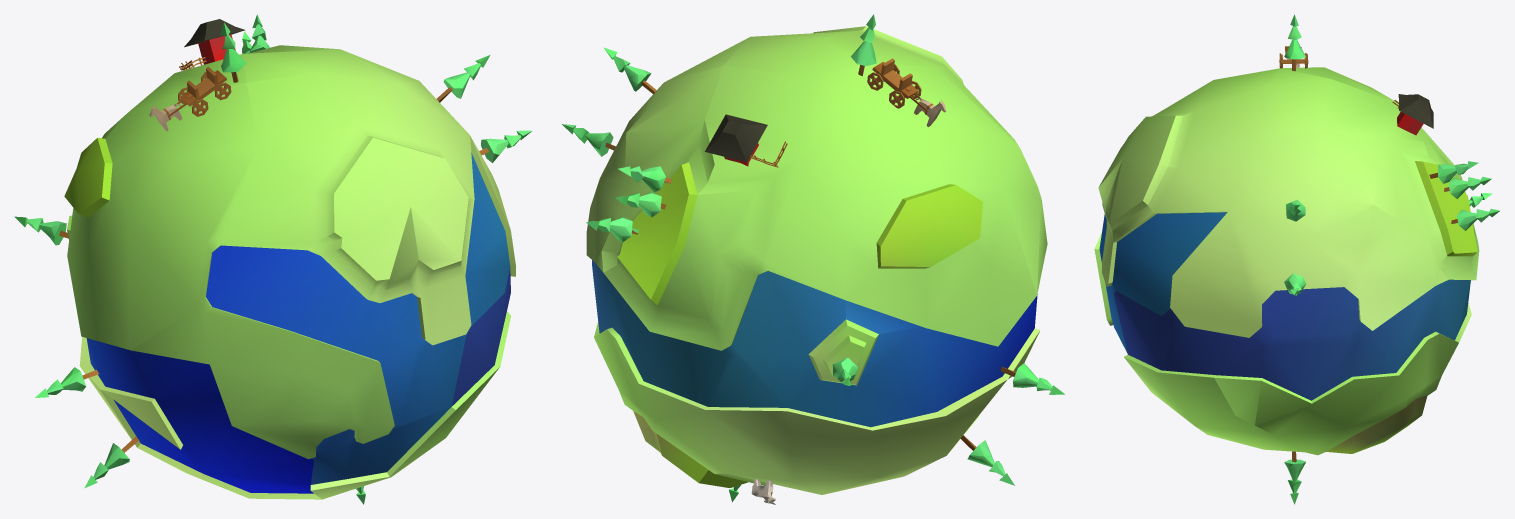
Rendered from plateon.fbx.
The picture shows the model from 3 angles, left to right: view 1: azimuth 30°, elevation 25°; view 2: azimuth 150°, elevation 25°; view 3: azimuth 270°, elevation 25°; orthographic projection. The views are drawn at different scales.
Visible parts, largest first — view 1: Mesh; view 2: Mesh; view 3: Mesh.
Boxes of the visible parts, left/top/right/bottom form: Mesh: left=14, top=14, right=532, bottom=504; Mesh: left=562, top=14, right=1064, bottom=504; Mesh: left=1094, top=14, right=1499, bottom=504.
Size of the model in its own units: 246 by 244 by 207.
